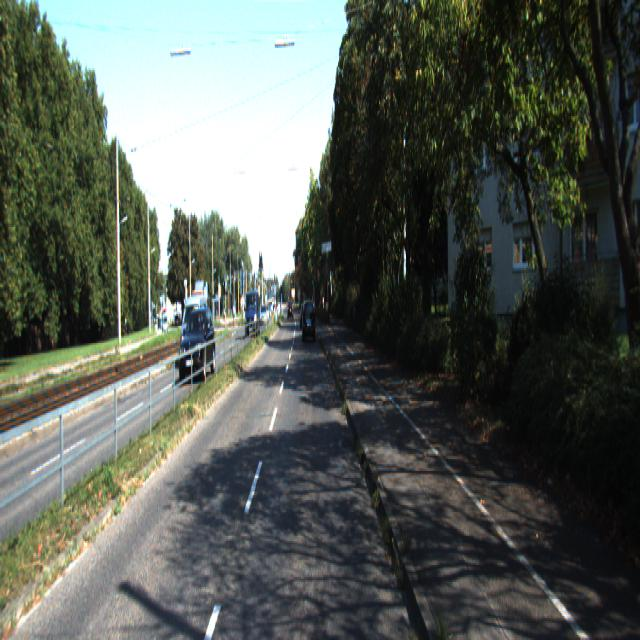Car: (178, 304, 216, 382), (180, 291, 210, 363), (245, 288, 260, 338), (303, 299, 316, 344)
